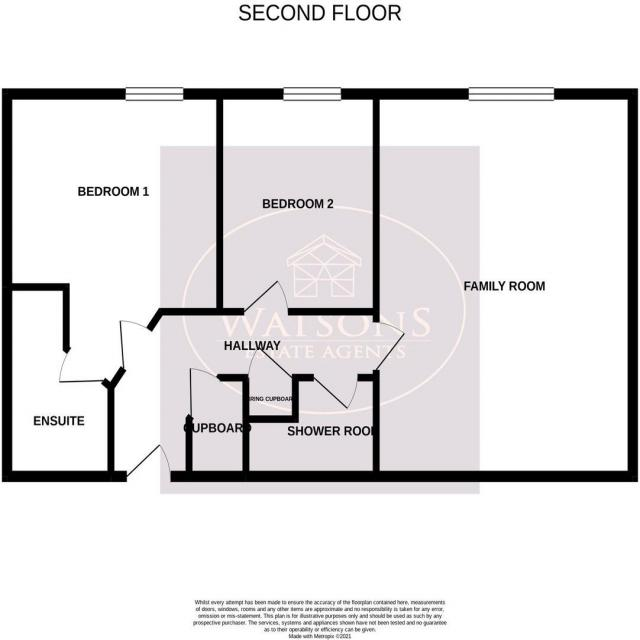DOOR: (372, 318, 409, 380), (121, 441, 173, 482), (116, 317, 153, 374), (56, 346, 109, 384), (308, 374, 361, 412), (241, 276, 290, 316), (245, 344, 296, 379)
ROOM: (373, 87, 638, 482), (2, 88, 224, 394), (216, 88, 380, 315)
WINDOW: (467, 86, 557, 105), (120, 82, 189, 103), (279, 85, 344, 104)
